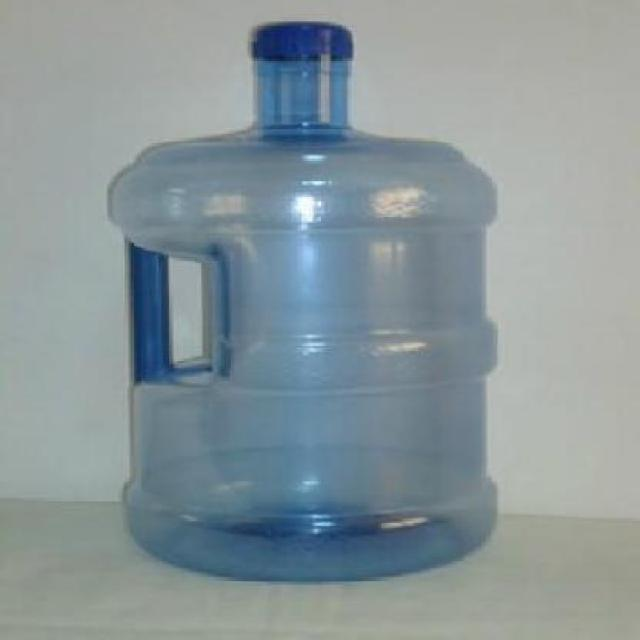coolerbottle: (106, 17, 506, 591)
